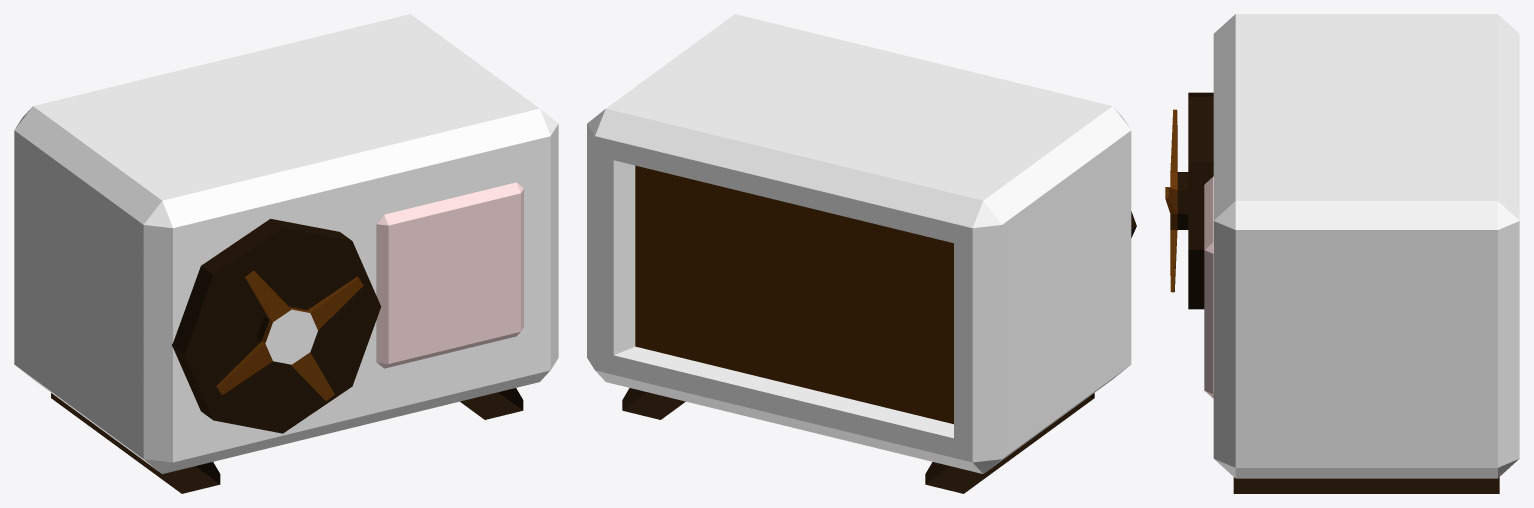
The model's file is air-conditioner.glb.
3 views of the same model, side by side, from view 1: azimuth 30°, elevation 25°; view 2: azimuth 150°, elevation 25°; view 3: azimuth 270°, elevation 25° (orthographic).
Visible parts, largest first — view 1: AirConditioner, Ventilator, Feet; view 2: AirConditioner, Feet; view 3: AirConditioner, Ventilator, Feet.
Part boxes in pixels (bbox=[...]): AirConditioner: bbox=[14, 14, 558, 473]; Ventilator: bbox=[171, 218, 380, 433]; Feet: bbox=[51, 388, 523, 493]; AirConditioner: bbox=[587, 14, 1131, 473]; Feet: bbox=[622, 388, 1094, 493]; AirConditioner: bbox=[1204, 14, 1519, 478]; Ventilator: bbox=[1165, 92, 1213, 309]; Feet: bbox=[1233, 477, 1499, 493].
Size of the model in its own units: 3.18 by 2.17 by 2.32.
Materials: 1 (1 with a texture image).
